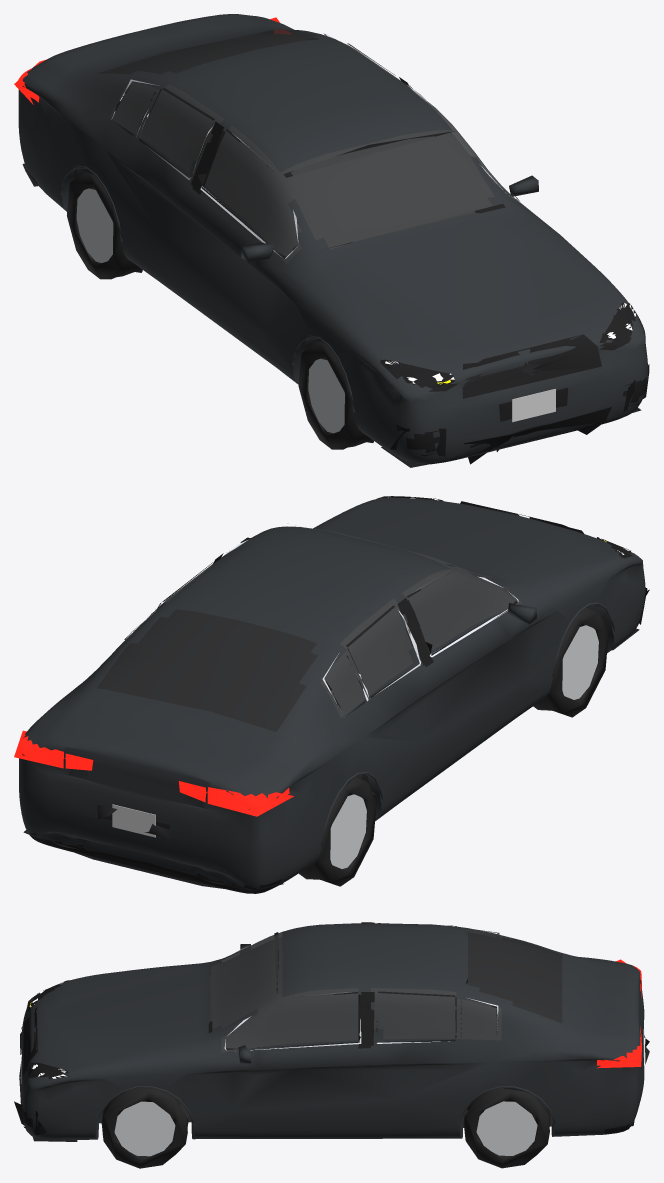
The model's file is sedanLuxe-lod2.glb.
3 renders of one model, top to bottom at view 1: azimuth 30°, elevation 25°; view 2: azimuth 150°, elevation 25°; view 3: azimuth 270°, elevation 25°, orthographic. The views are drawn at different scales.
Parts seen in each view (by area): view 1: Body, Body_Lining, Body_Trim, Wheel_FR_Tyre, Wheel_RR_Tyre, Wheel_RR_Face, Wheel_FR_Face, PlateFront; view 2: Body, Body_Lining, Body_Trim, Wheel_FR_Tyre, Wheel_RR_Tyre, Wheel_FR_Face, Wheel_RR_Face, PlateRear; view 3: Body, Body_Lining, Body_Trim, Wheel_FL_Tyre, Wheel_RL_Tyre, Wheel_RL_Face, Wheel_FL_Face.
Part boxes in pixels (bbox=[...]): Body: bbox=[18, 14, 647, 464]; Body_Lining: bbox=[109, 34, 494, 263]; Body_Trim: bbox=[14, 17, 649, 467]; Wheel_FR_Tyre: bbox=[298, 341, 373, 449]; Wheel_RR_Tyre: bbox=[67, 171, 142, 279]; Wheel_RR_Face: bbox=[76, 188, 113, 262]; Wheel_FR_Face: bbox=[308, 358, 344, 433]; PlateFront: bbox=[512, 389, 555, 422]; Body: bbox=[18, 497, 645, 893]; Body_Lining: bbox=[98, 567, 514, 729]; Body_Trim: bbox=[14, 496, 649, 890]; Wheel_FR_Tyre: bbox=[533, 608, 608, 717]; Wheel_RR_Tyre: bbox=[299, 777, 376, 886]; Wheel_FR_Face: bbox=[562, 625, 598, 699]; Wheel_RR_Face: bbox=[330, 794, 366, 868]; PlateRear: bbox=[112, 804, 155, 837]; Body: bbox=[21, 923, 644, 1140]; Body_Lining: bbox=[210, 935, 561, 1052]; Body_Trim: bbox=[14, 922, 649, 1141]; Wheel_FL_Tyre: bbox=[101, 1088, 188, 1168]; Wheel_RL_Tyre: bbox=[463, 1088, 550, 1168]; Wheel_RL_Face: bbox=[476, 1101, 537, 1155]; Wheel_FL_Face: bbox=[114, 1101, 175, 1156].
Size of the model in its own units: 2.04 by 1.47 by 4.95.
